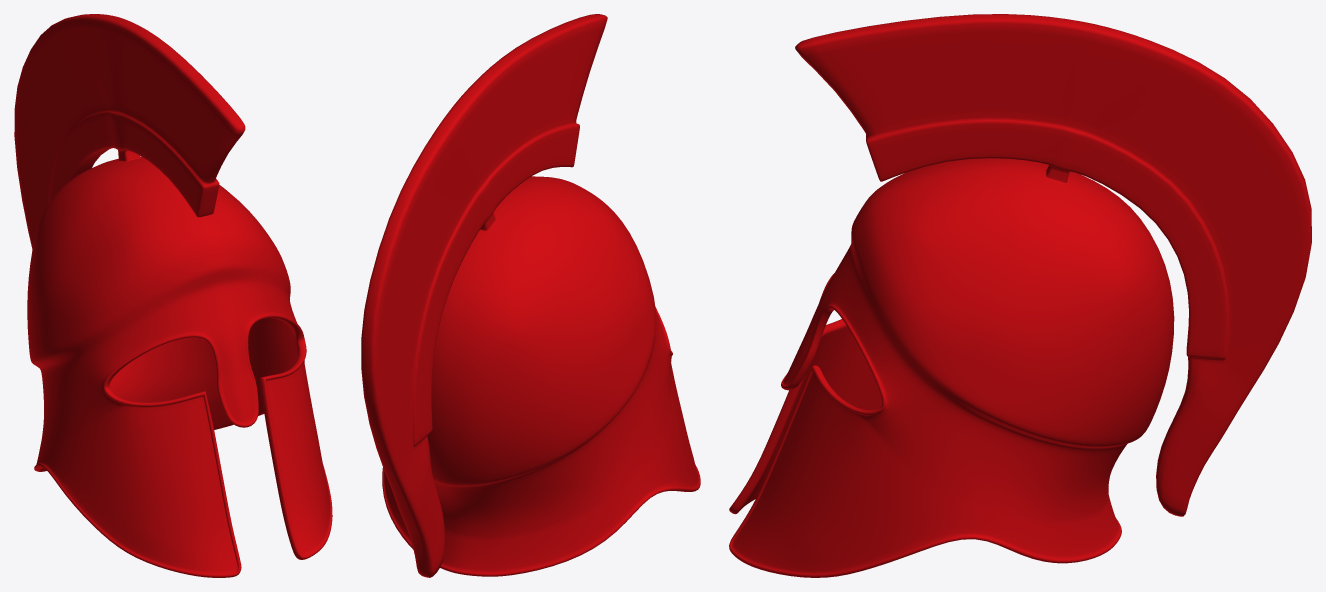
The model's file is Grrek_Helmet_02.obj.
3 views of the same model, side by side, from view 1: azimuth 30°, elevation 25°; view 2: azimuth 150°, elevation 25°; view 3: azimuth 270°, elevation 25° (orthographic). The views are drawn at different scales.
Visible parts, largest first — view 1: Cube_Cube.001; view 2: Cube_Cube.001; view 3: Cube_Cube.001.
Boxes of the visible parts, bbox=[...] form: Cube_Cube.001: bbox=[14, 14, 332, 577]; Cube_Cube.001: bbox=[361, 14, 700, 577]; Cube_Cube.001: bbox=[729, 14, 1311, 577].
Size of the model in its own units: 1.75 by 3.02 by 3.08.
